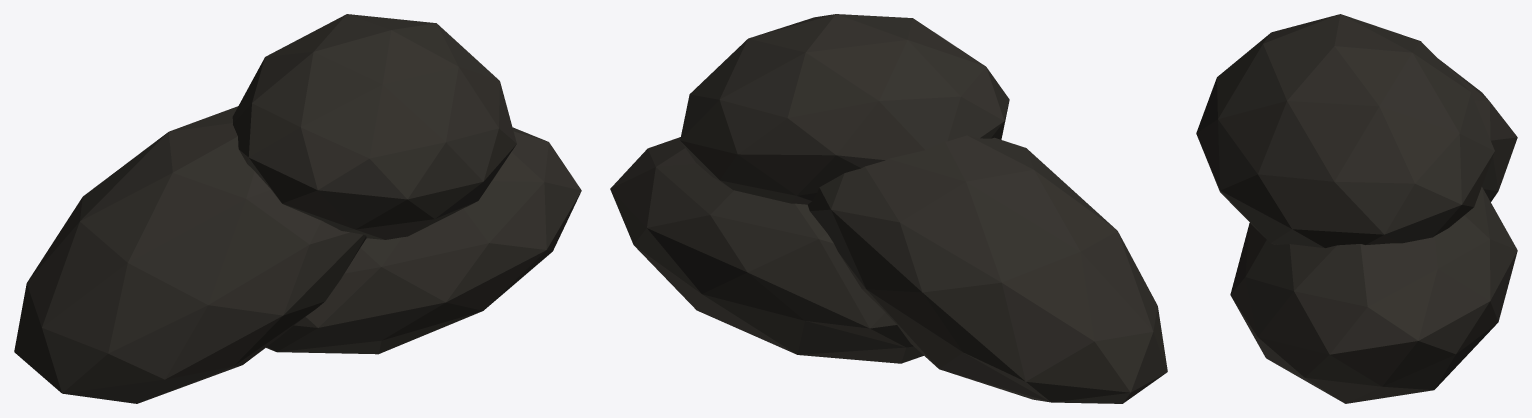
Rendered from SM_Prop_Rock.fbx.
3 views of the same model, side by side, from view 1: azimuth 30°, elevation 25°; view 2: azimuth 150°, elevation 25°; view 3: azimuth 270°, elevation 25° (orthographic). The views are drawn at different scales.
Visible parts, largest first — view 1: Icosphere.008; view 2: Icosphere.008; view 3: Icosphere.008.
Part boxes in pixels (<box>): Icosphere.008: <box>14,14,581,403</box>; Icosphere.008: <box>610,14,1167,403</box>; Icosphere.008: <box>1196,14,1517,403</box>.
Size of the model in its own units: 174 by 198 by 342.
